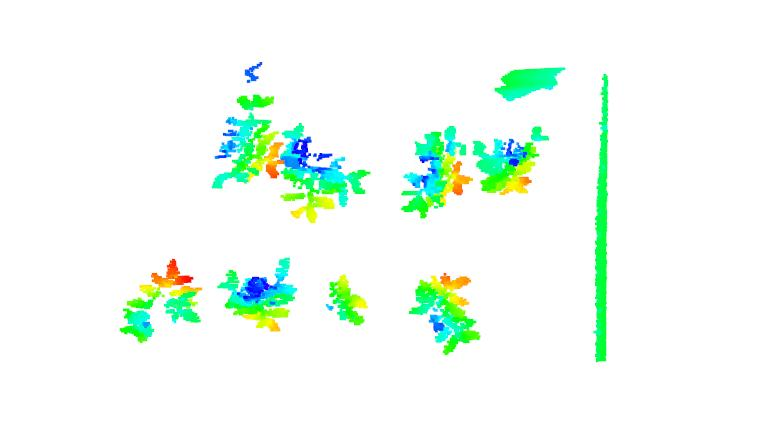chickpea: (275, 122, 372, 225), (208, 92, 281, 195), (119, 259, 203, 345), (396, 126, 470, 219), (217, 254, 303, 332), (408, 271, 484, 355), (472, 123, 550, 202), (323, 272, 372, 328)
